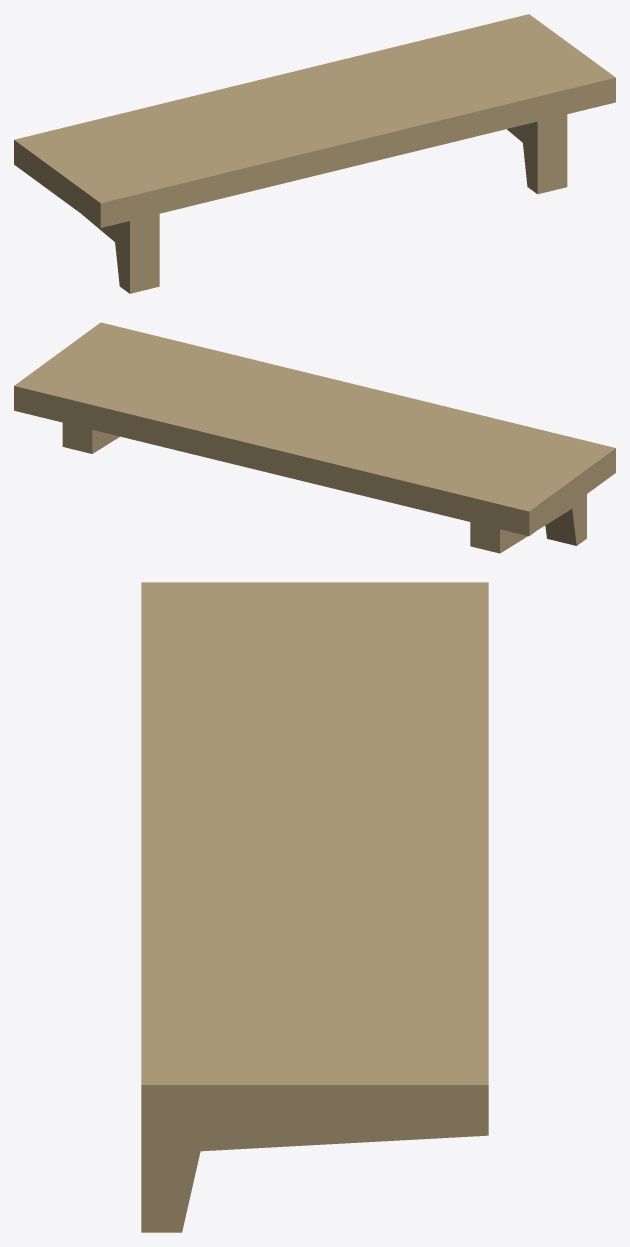
Rendered from estanteria.fbx.
3 renders of one model, top to bottom at view 1: azimuth 30°, elevation 25°; view 2: azimuth 150°, elevation 25°; view 3: azimuth 270°, elevation 25°, orthographic. The views are drawn at different scales.
Visible parts, largest first — view 1: Box028; view 2: Box028; view 3: Box028.
Boxes of the visible parts, <box> form: Box028: <box>14,14,615,293</box>; Box028: <box>14,322,615,553</box>; Box028: <box>141,582,488,1232</box>.
Size of the model in its own units: 9342 by 1692 by 2727.
